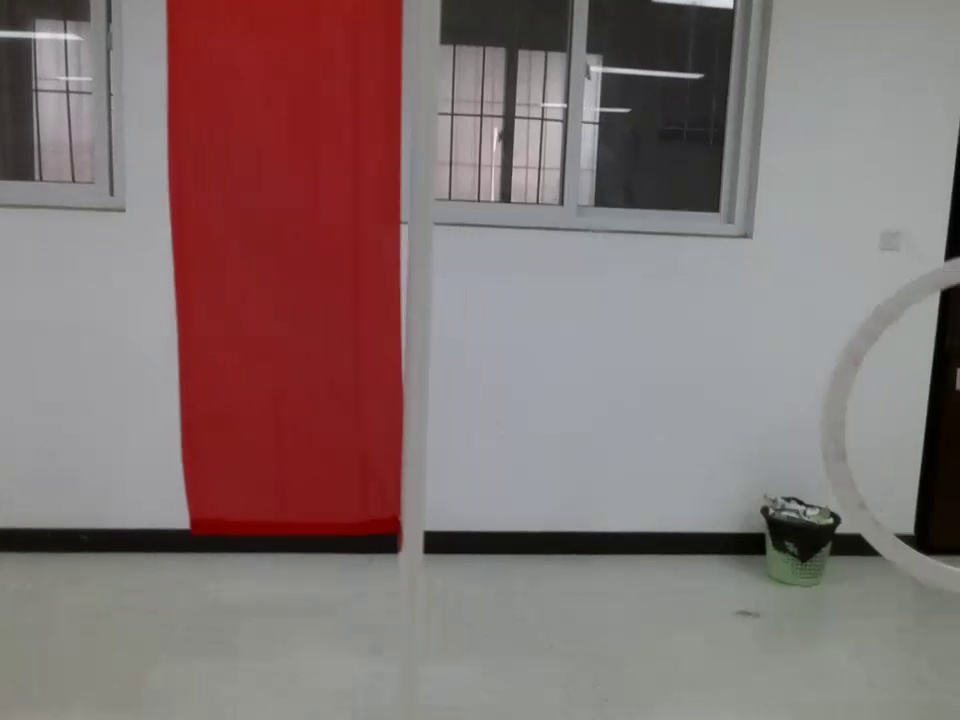qi: (114, 1, 423, 561)
quan: (806, 246, 960, 598)
